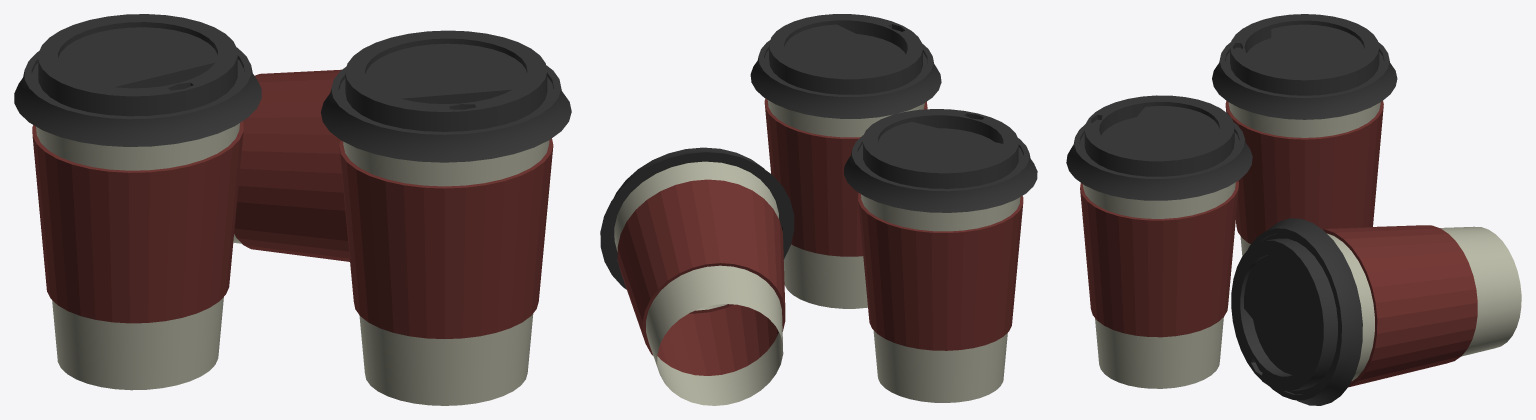
Rendered from DynamicElements2.glb.
The picture shows the model from 3 angles, left to right: view 1: azimuth 30°, elevation 25°; view 2: azimuth 150°, elevation 25°; view 3: azimuth 270°, elevation 25°; orthographic projection. The views are drawn at different scales.
Visible parts, largest first — view 1: coffee_2, Coffee_1, coffee_3; view 2: Coffee_1, coffee_3, coffee_2; view 3: coffee_2, coffee_3, Coffee_1.
Part boxes in pixels (x1,y1,x2,y2): coffee_2: [321, 30, 571, 405]; Coffee_1: [14, 14, 261, 390]; coffee_3: [233, 69, 349, 261]; Coffee_1: [844, 109, 1037, 402]; coffee_3: [600, 147, 794, 405]; coffee_2: [750, 14, 941, 308]; coffee_2: [1066, 95, 1252, 388]; coffee_3: [1231, 218, 1521, 405]; Coffee_1: [1212, 14, 1397, 255].
Bounding box in the file's own units: 5.6 × 3.14 × 5.54.
